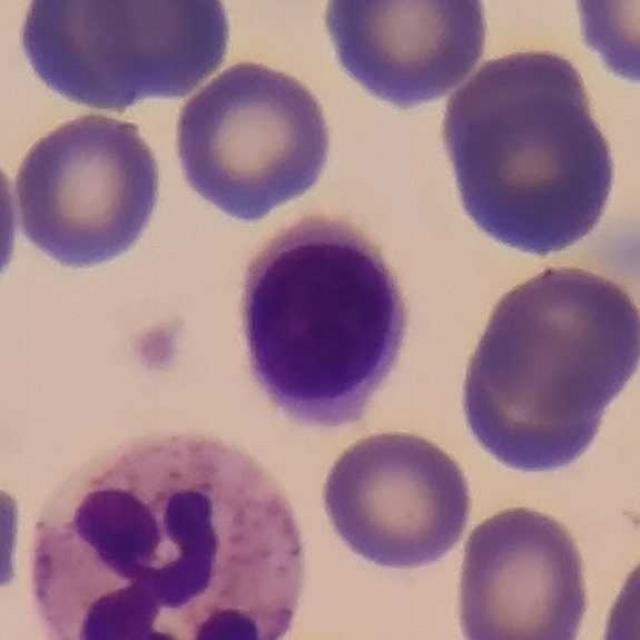Lymphocyte: (225, 206, 422, 438)
Neutrophil: (0, 416, 314, 640)
Platelets: (125, 317, 190, 378)
RBC: (433, 37, 627, 268), (450, 256, 636, 479), (168, 55, 338, 224), (8, 107, 168, 275), (316, 424, 476, 576), (450, 500, 596, 640), (315, 0, 494, 112), (9, 1, 175, 117), (81, 0, 238, 104), (566, 0, 640, 90), (590, 531, 640, 640)
